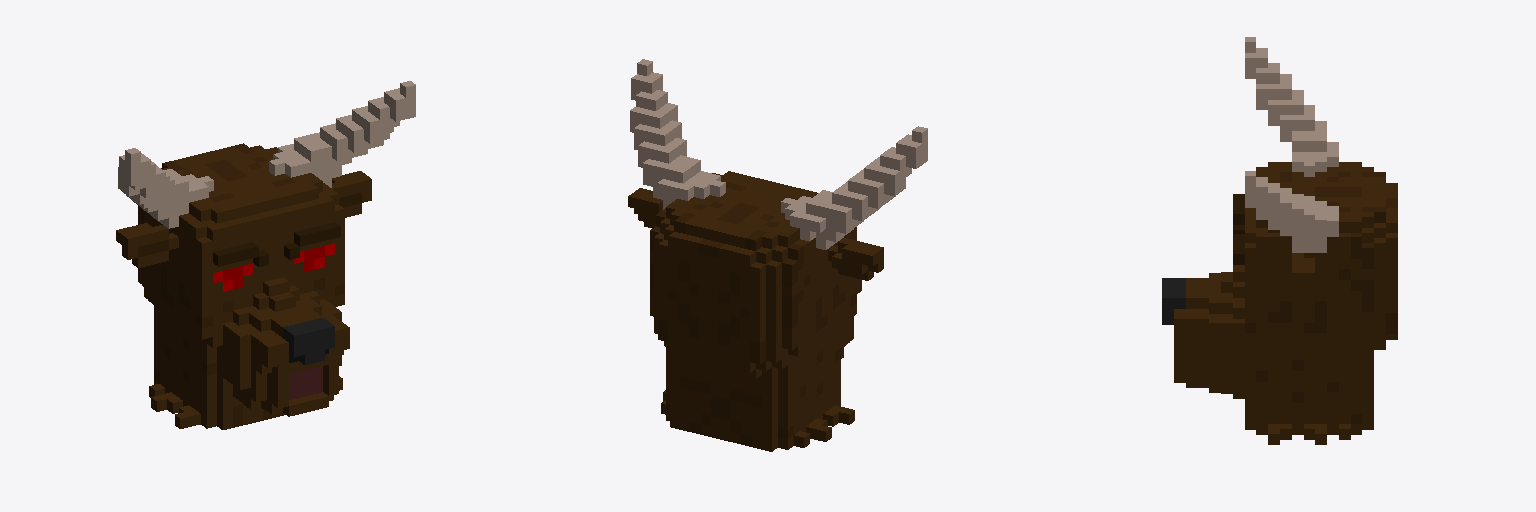
3 views of the same model, side by side, from view 1: azimuth 30°, elevation 25°; view 2: azimuth 150°, elevation 25°; view 3: azimuth 270°, elevation 25° (orthographic).
Parts seen in each view (by area): view 1: object 1; view 2: object 1; view 3: object 1.
Part boxes in pixels (left/top/right/bottom): object 1: left=116, top=81, right=415, bottom=429; object 1: left=628, top=59, right=927, bottom=451; object 1: left=1162, top=37, right=1397, bottom=444.
Size of the model in its own units: 2.8 by 2.8 by 2.
Materials: 1 (1 with a texture image).